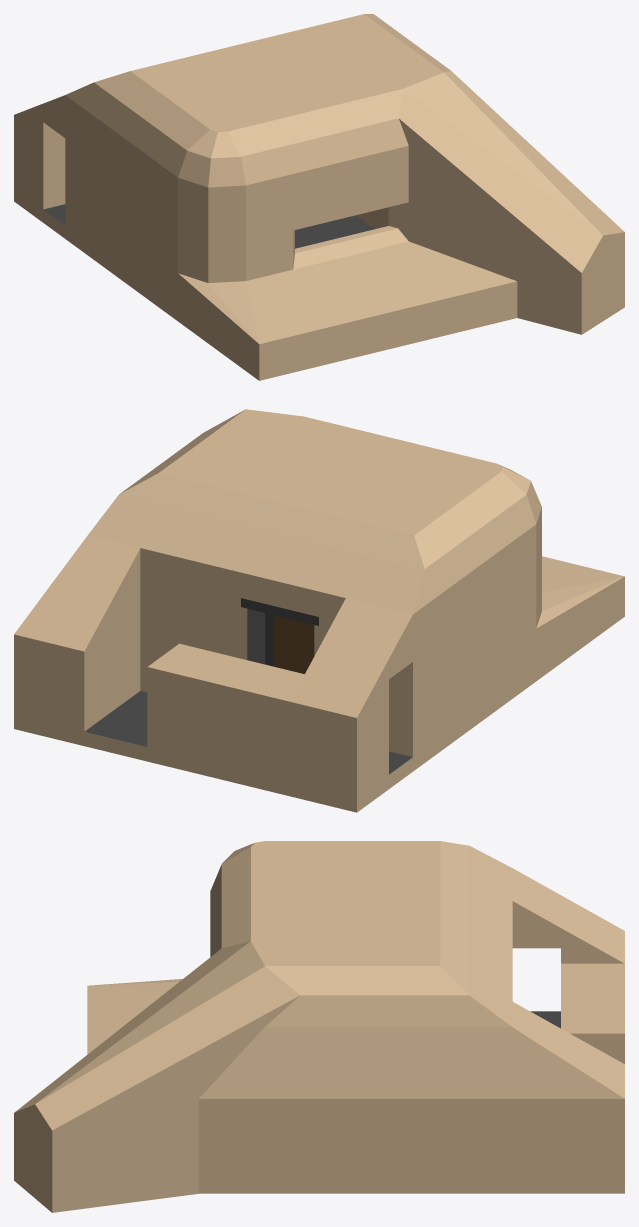
Rendered from bunker-medium.fbx.
The picture shows the model from 3 angles, top to bottom: view 1: azimuth 30°, elevation 25°; view 2: azimuth 150°, elevation 25°; view 3: azimuth 270°, elevation 25°; orthographic projection. The views are drawn at different scales.
Parts seen in each view (by area): view 1: bunker-medium; view 2: bunker-medium; view 3: bunker-medium.
Part boxes in pixels (left/top/right/bottom): bunker-medium: left=14, top=14, right=624, bottom=380; bunker-medium: left=14, top=409, right=624, bottom=812; bunker-medium: left=14, top=841, right=624, bottom=1212.
Size of the model in its own units: 8.13 by 4.09 by 11.23.
